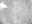person: (1, 3, 6, 9)
